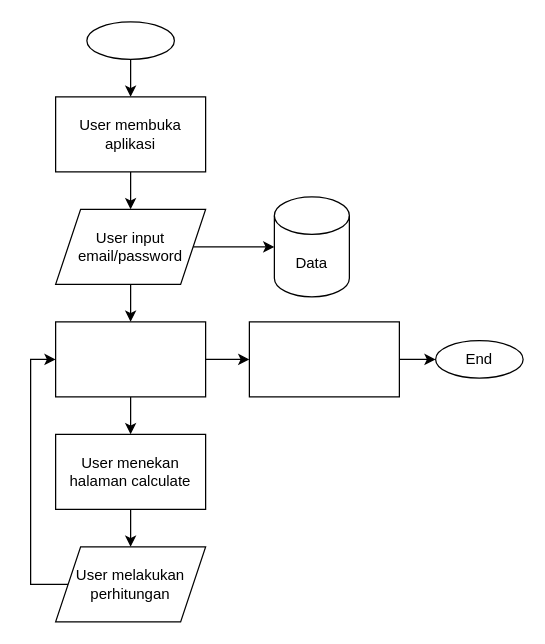
Some shapes in this 545 by 644 pixel diagram are drawn without their labels. Each missing label, with the centre of its shape:
"Start" goes at point 130,40.
"User keluar dari aplikasi" goes at point 323,359.
"User masuk ke halaman home" goes at point 130,359.
